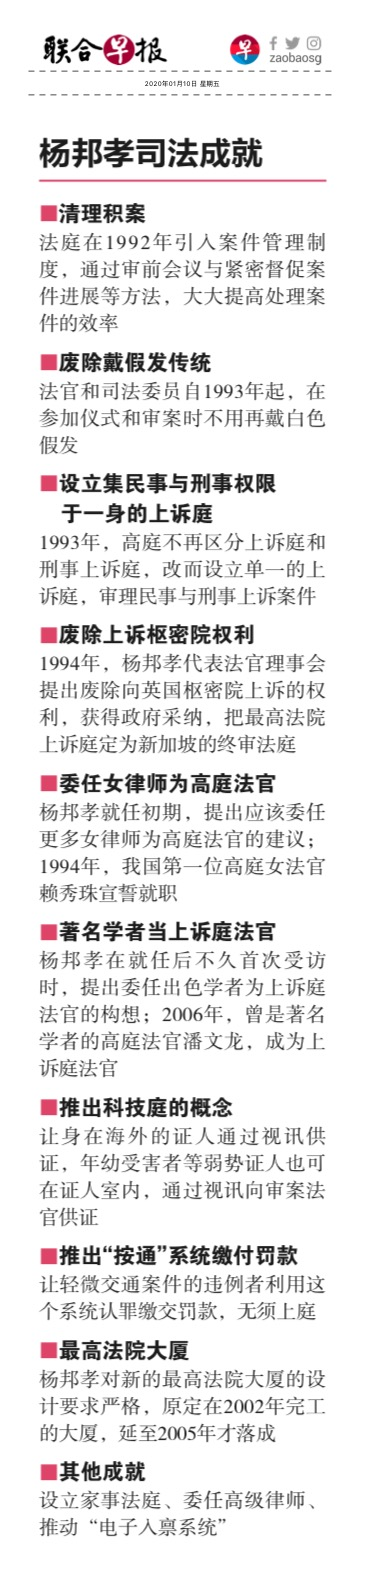heading: (31, 122, 275, 174)
